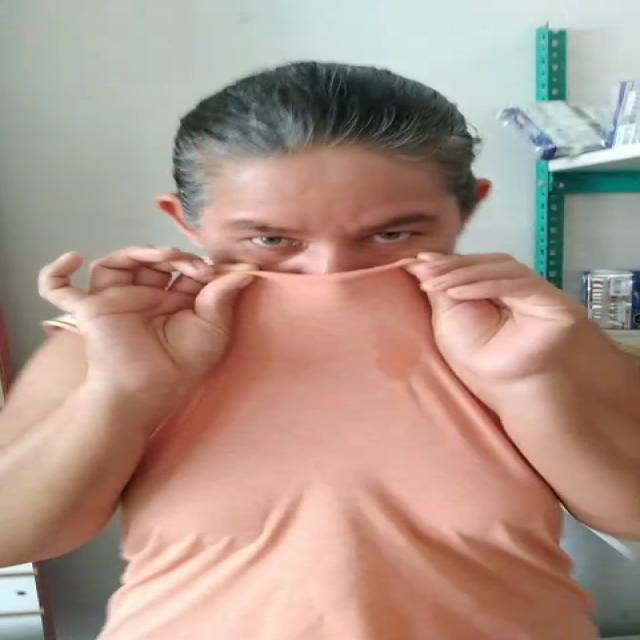8_ropa_rostro: (160, 259, 529, 369)
